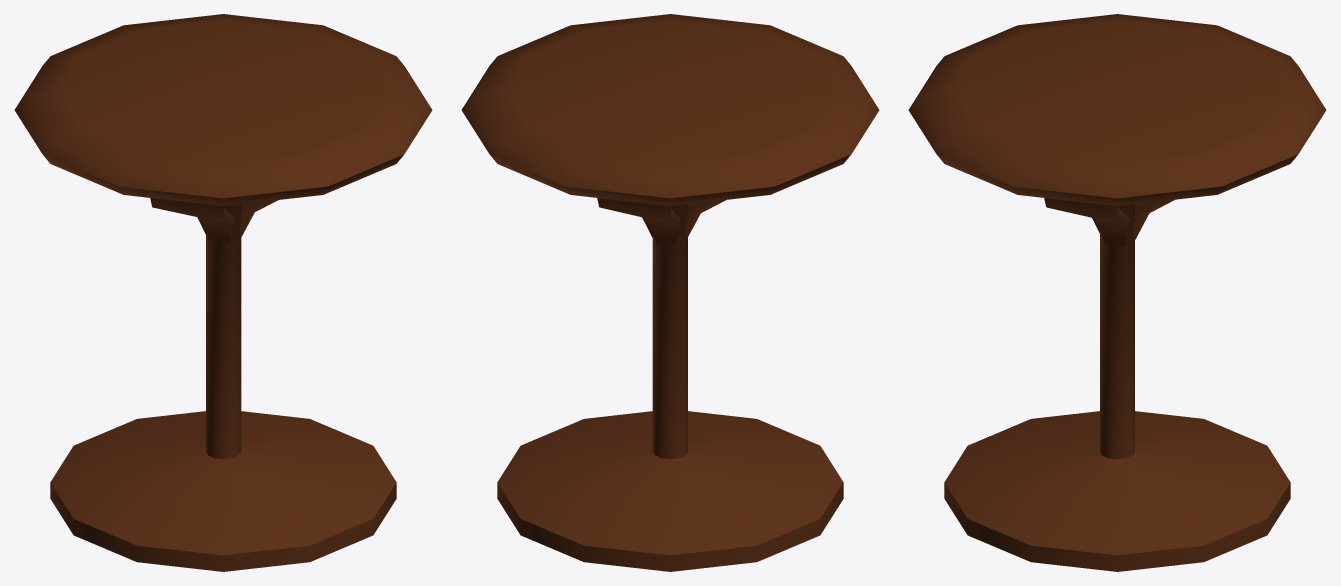
File: Mesa.fbx
3 views of the same model, side by side, from view 1: azimuth 30°, elevation 25°; view 2: azimuth 150°, elevation 25°; view 3: azimuth 270°, elevation 25° (orthographic).
Visible parts, largest first — view 1: Mesa placeholder; view 2: Mesa placeholder; view 3: Mesa placeholder.
Boxes of the visible parts, <box> form: Mesa placeholder: <box>14,14,432,571</box>; Mesa placeholder: <box>461,14,879,571</box>; Mesa placeholder: <box>908,14,1326,571</box>.
Size of the model in its own units: 166 by 178 by 166.
